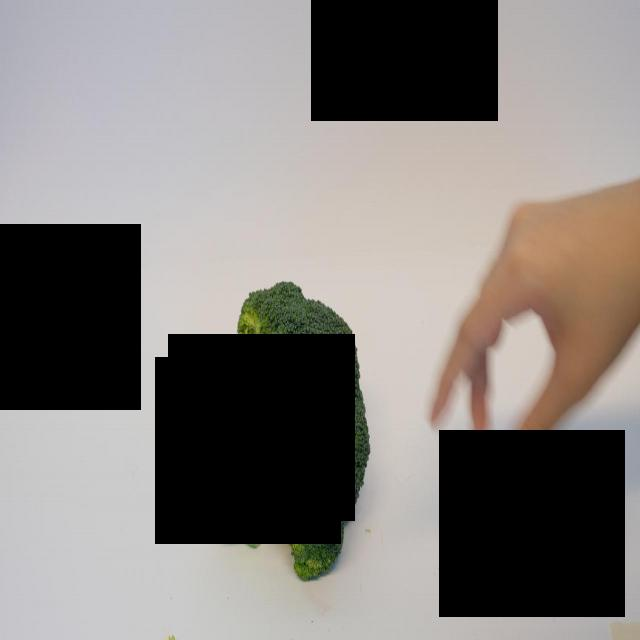broccoli: (202, 274, 370, 580)
